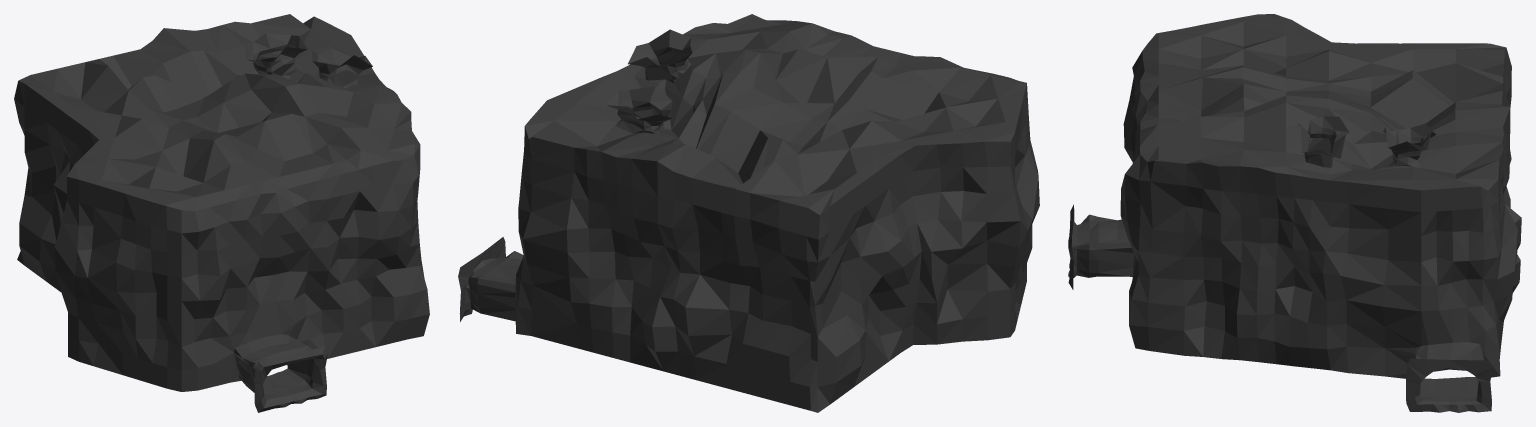
File: Cave_14A.fbx
3 renders of one model, left to right at view 1: azimuth 30°, elevation 25°; view 2: azimuth 150°, elevation 25°; view 3: azimuth 270°, elevation 25°, orthographic. The views are drawn at different scales.
Parts seen in each view (by area): view 1: polySurface1226; view 2: polySurface1226; view 3: polySurface1226.
Boxes of the visible parts, bbox=[...] form: polySurface1226: bbox=[14, 14, 429, 412]; polySurface1226: bbox=[458, 14, 1039, 412]; polySurface1226: bbox=[1068, 14, 1521, 412].
Bounding box in the file's own units: 51.47 × 26.92 × 46.9.
